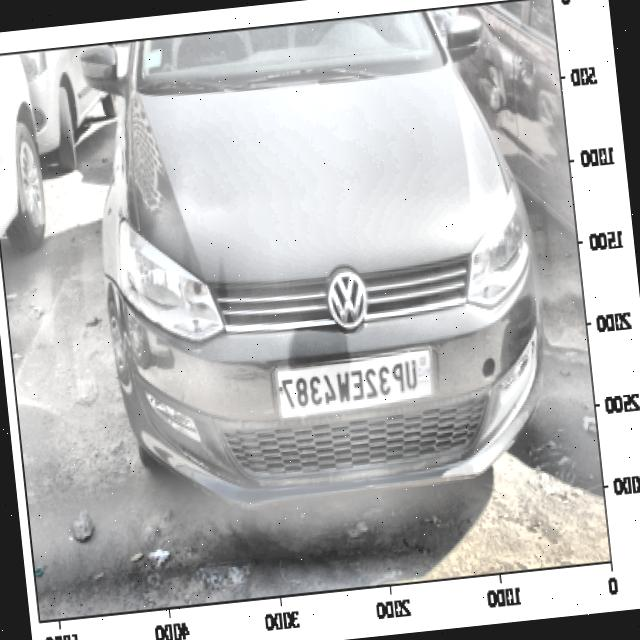license_plate: (274, 351, 428, 418)
